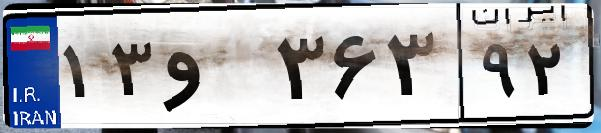1: (57, 26, 110, 100)
2: (525, 38, 570, 115)
3: (270, 28, 330, 110), (385, 28, 445, 110), (110, 28, 158, 98)
6: (330, 28, 385, 110)
9: (475, 38, 525, 113)
و: (158, 20, 270, 120)
